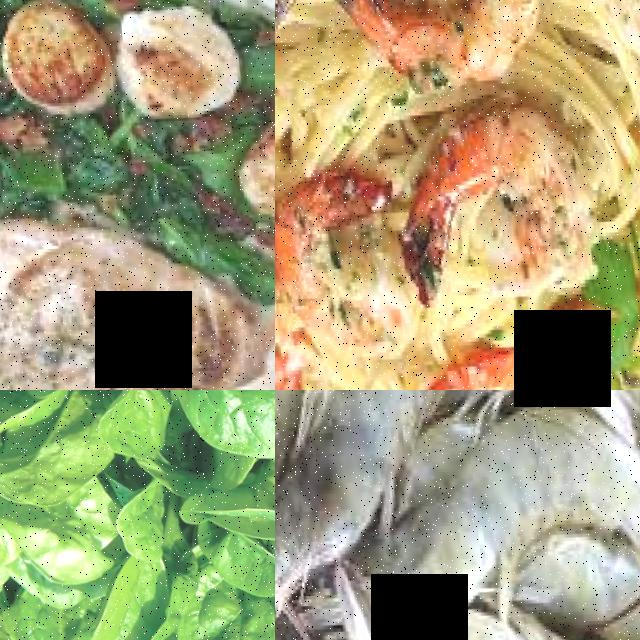sea scallops: (108, 6, 237, 117), (0, 0, 108, 114)
shrimp: (378, 417, 640, 604)
spinach: (389, 118, 598, 290), (275, 171, 402, 367), (311, 0, 543, 90), (70, 554, 161, 640), (165, 390, 275, 457), (168, 595, 275, 640), (204, 538, 275, 595)
